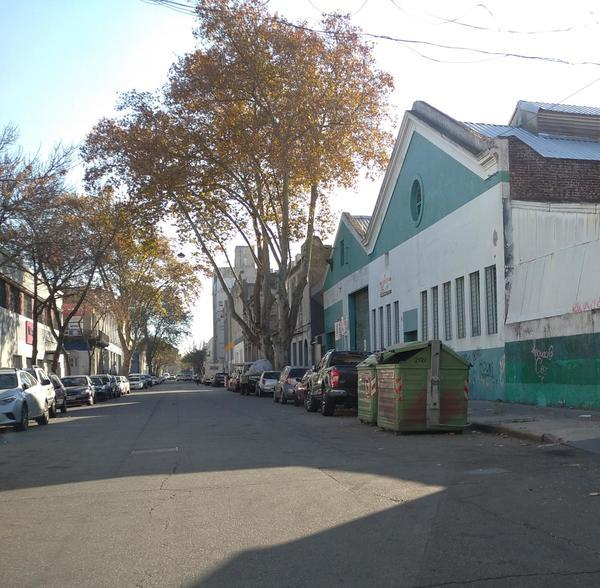Trash: (359, 341, 469, 433)
